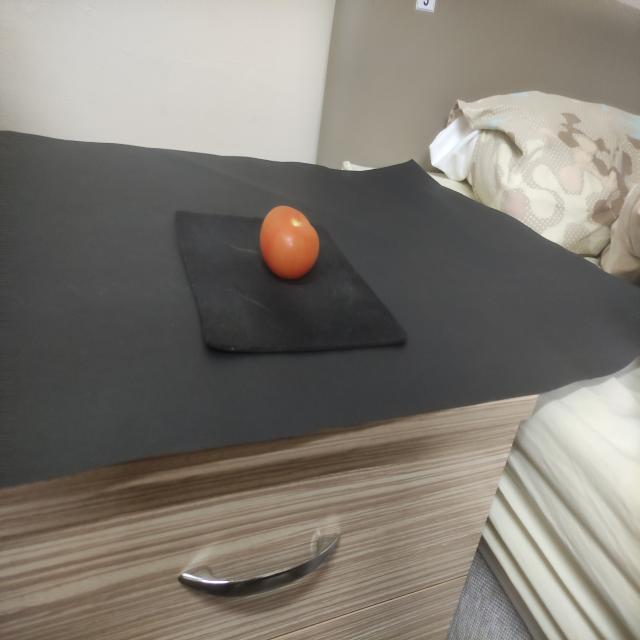sari: (256, 201, 328, 287)
